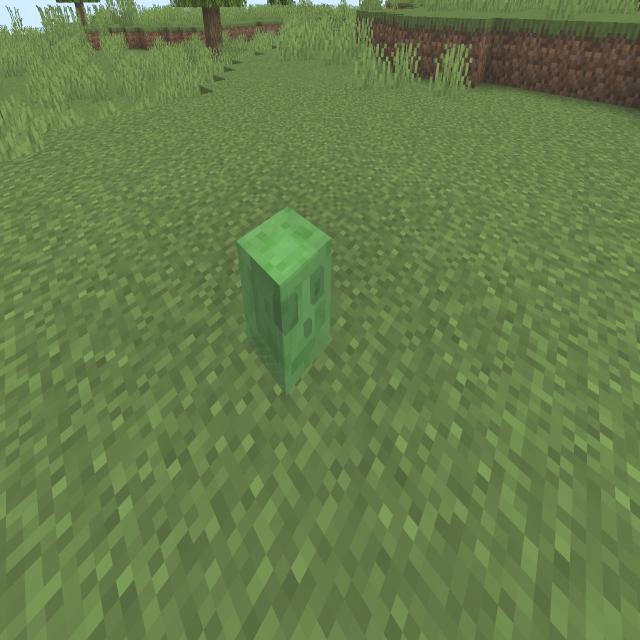Slime: (226, 192, 342, 408)
